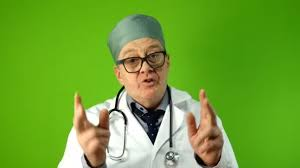masked: (101, 11, 182, 106)
